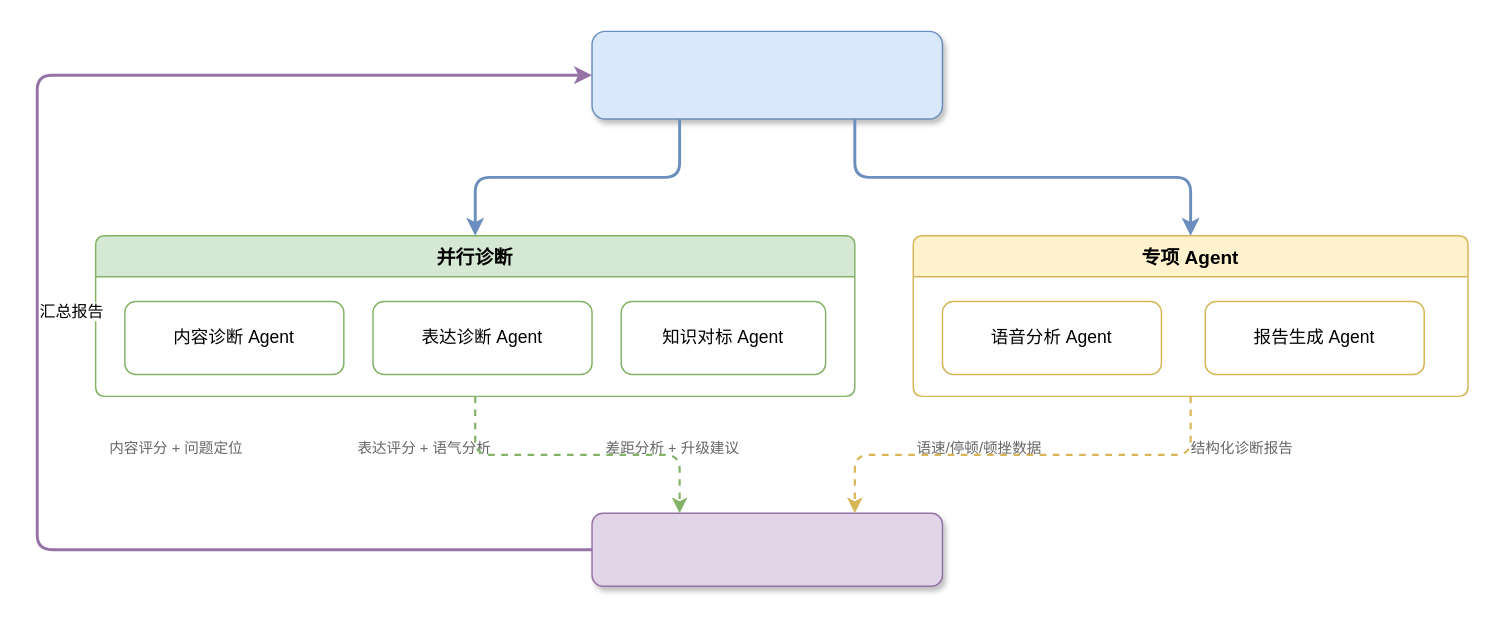
The diagram is 1494 pixels wide and 622 high, and some of its shapes have lost their labels. The centre of each missing label's shape, as x and y in pixels:
"主 Agent / Orchestrator" belongs at point 768,76.
"结果汇聚" belongs at point 768,551.
